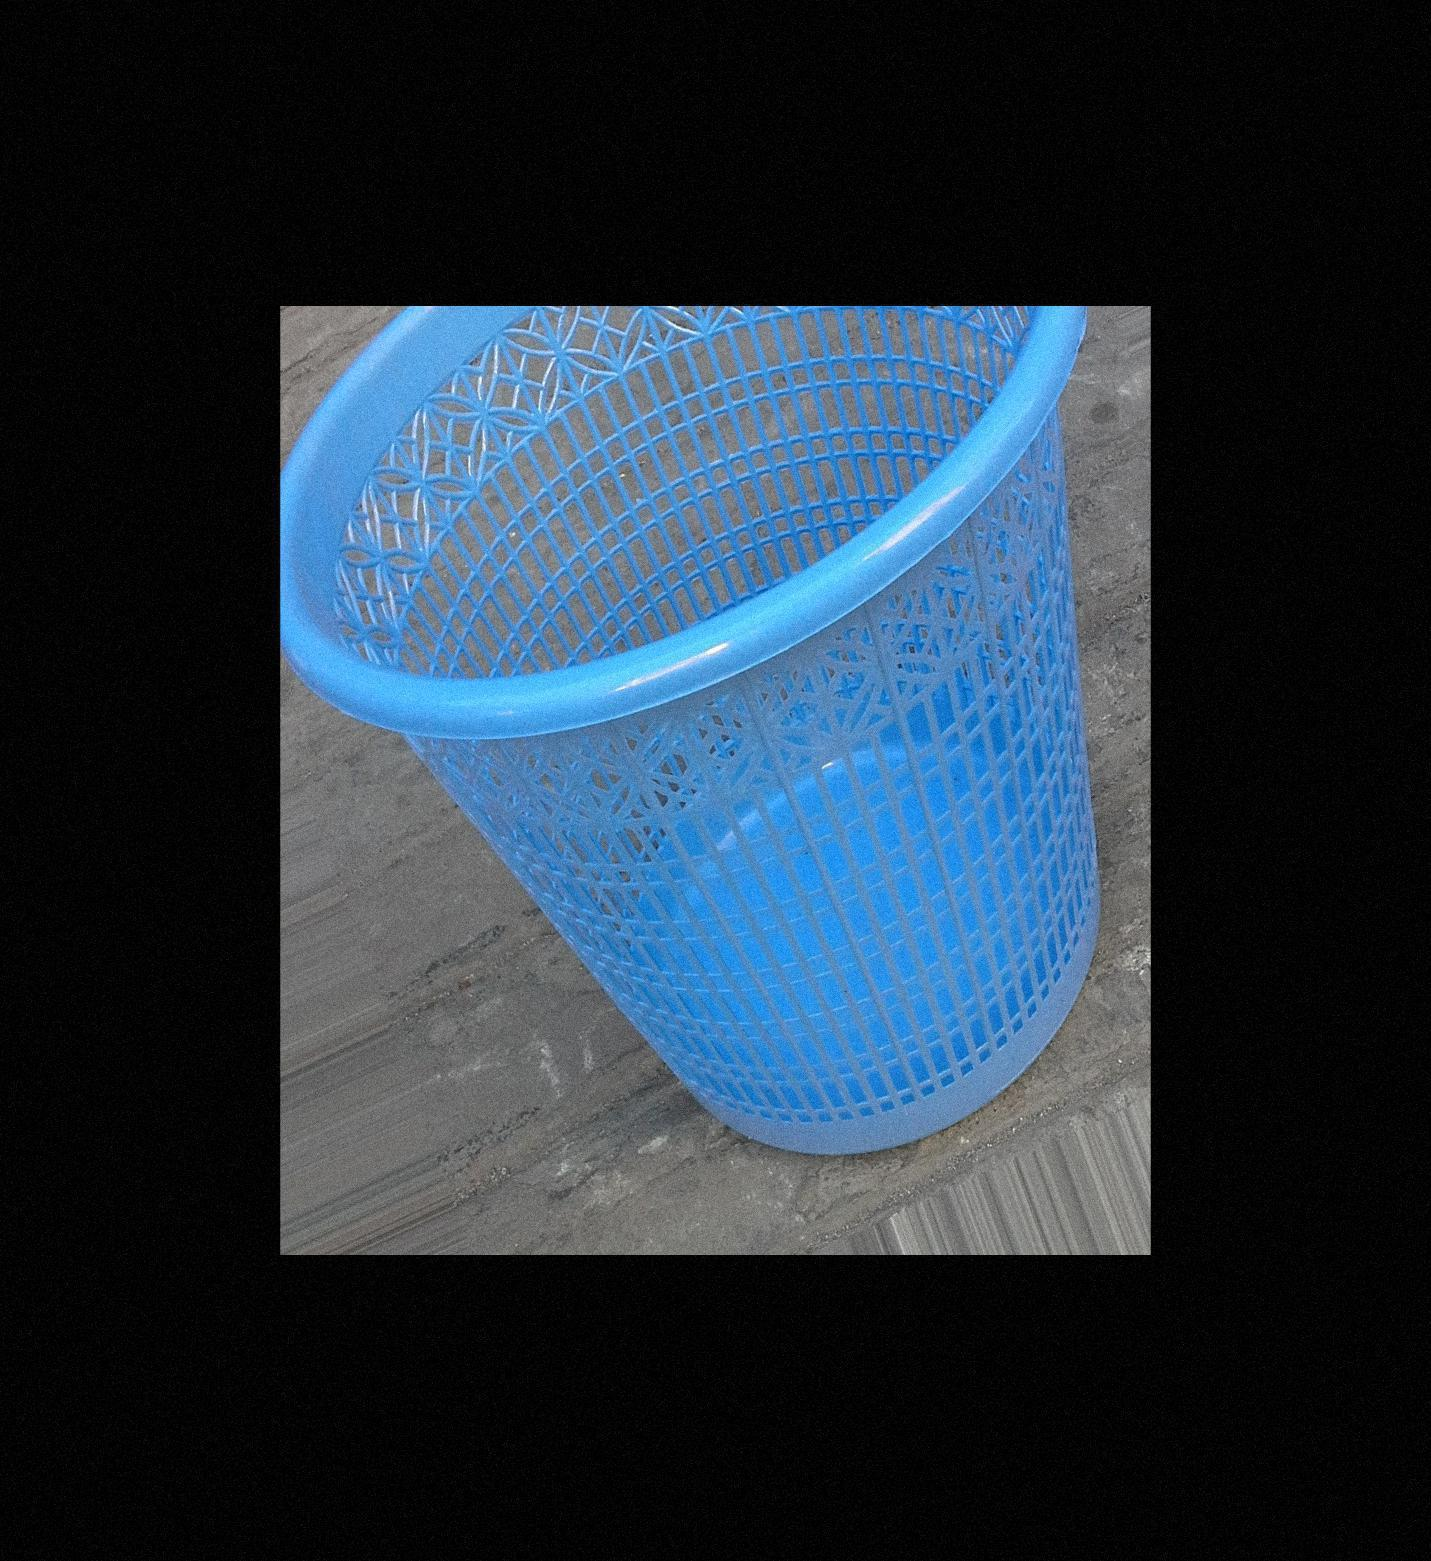Bote de Basura: (282, 306, 1126, 1142)
